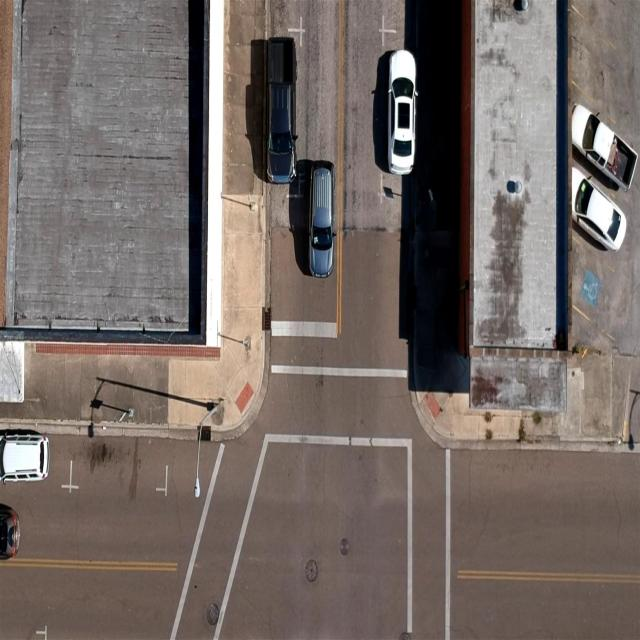Car: (567, 168, 627, 255), (306, 159, 339, 279), (387, 49, 418, 176), (0, 434, 51, 487)
Truck: (569, 100, 639, 194), (263, 36, 299, 184)
